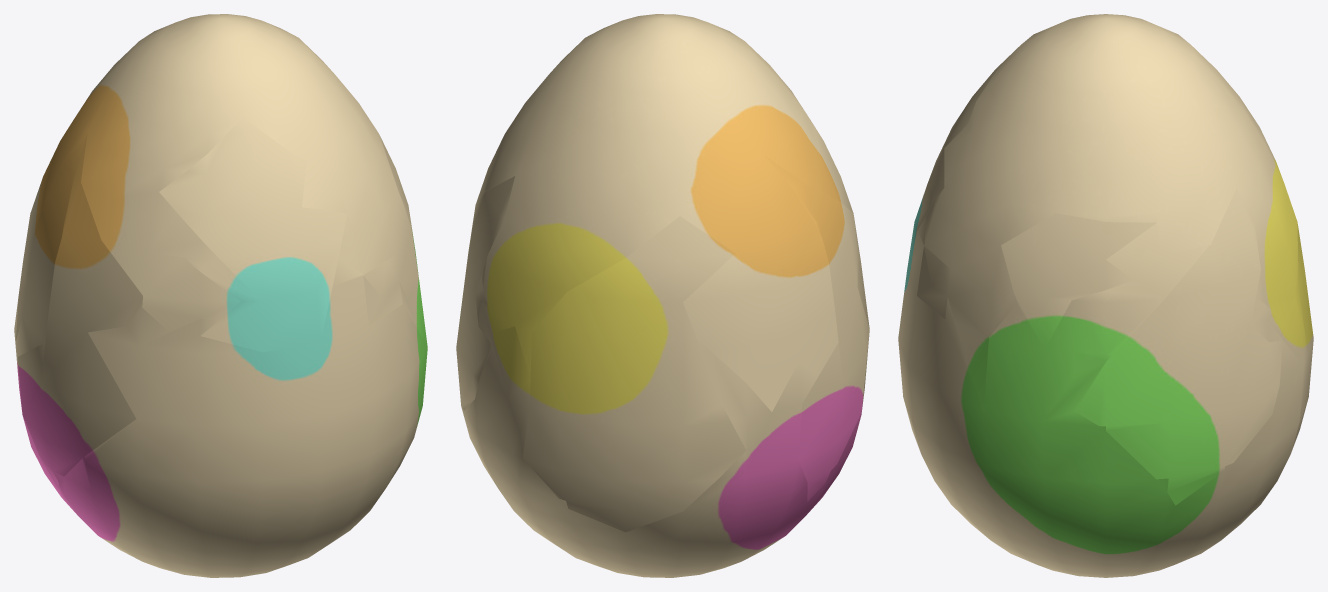
Rendered from cracked_egg.fbx.
The picture shows the model from 3 angles, left to right: view 1: azimuth 30°, elevation 25°; view 2: azimuth 150°, elevation 25°; view 3: azimuth 270°, elevation 25°; orthographic projection.
Visible parts, largest first — view 1: polySurface12, polySurface11, polySurface8, polySurface10; view 2: polySurface11, polySurface2, polySurface12, polySurface10, polySurface6; view 3: polySurface11, polySurface12, polySurface6, polySurface4, polySurface8, polySurface2.
Part boxes in pixels (left/top/right/bottom): polySurface12: left=14, top=236, right=427, bottom=577; polySurface11: left=15, top=14, right=418, bottom=349; polySurface8: left=159, top=117, right=346, bottom=352; polySurface10: left=17, top=134, right=142, bottom=488; polySurface11: left=475, top=14, right=853, bottom=411; polySurface2: left=522, top=216, right=746, bottom=532; polySurface12: left=461, top=215, right=869, bottom=577; polySurface10: left=765, top=156, right=869, bottom=501; polySurface6: left=456, top=176, right=514, bottom=410; polySurface11: left=917, top=14, right=1304, bottom=376; polySurface12: left=898, top=213, right=1307, bottom=577; polySurface6: left=1074, top=188, right=1282, bottom=505; polySurface4: left=1001, top=213, right=1156, bottom=349; polySurface8: left=907, top=60, right=1004, bottom=267; polySurface2: left=1297, top=224, right=1313, bottom=432.
Size of the model in its own units: 5.71 by 8.23 by 5.71.
1 material, 1 textured.
